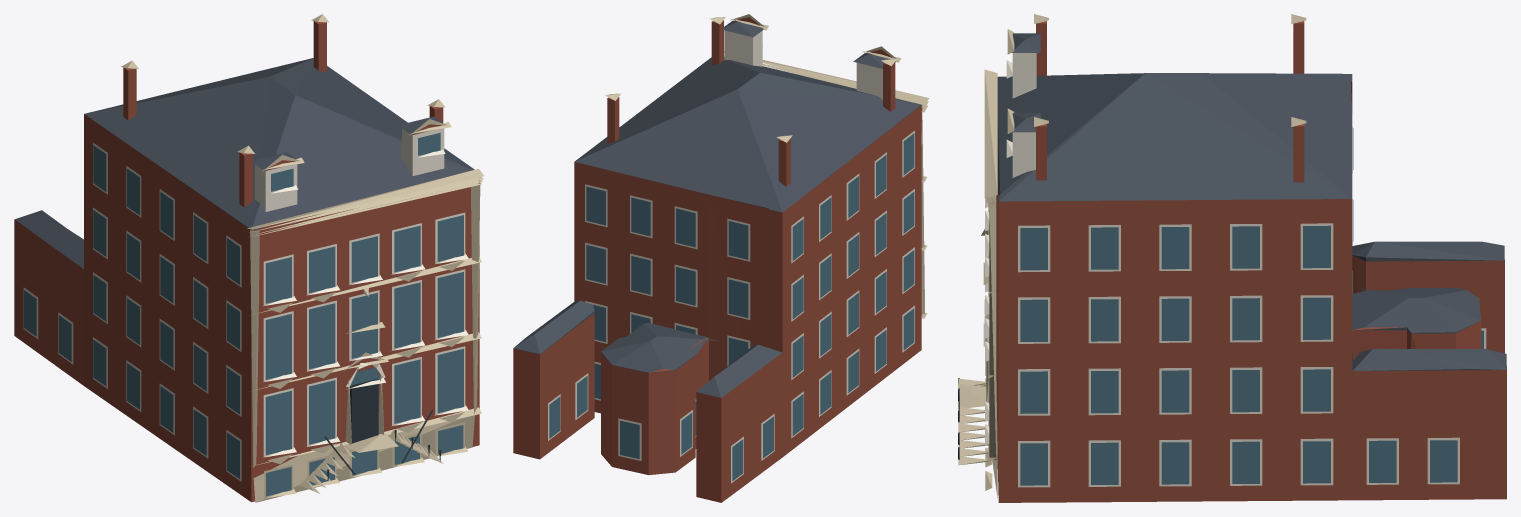
Rendered from willet-holthuysen.lod1.glb.
3 renders of one model, left to right at view 1: azimuth 30°, elevation 25°; view 2: azimuth 150°, elevation 25°; view 3: azimuth 270°, elevation 25°, orthographic. The views are drawn at different scales.
Visible parts, largest first — view 1: willet-holthuysen; view 2: willet-holthuysen; view 3: willet-holthuysen.
Part boxes in pixels (bbox=[...]): willet-holthuysen: bbox=[14, 14, 483, 502]; willet-holthuysen: bbox=[513, 14, 929, 502]; willet-holthuysen: bbox=[958, 14, 1506, 502].
Size of the model in its own units: 15.45 by 20.62 by 27.72.
